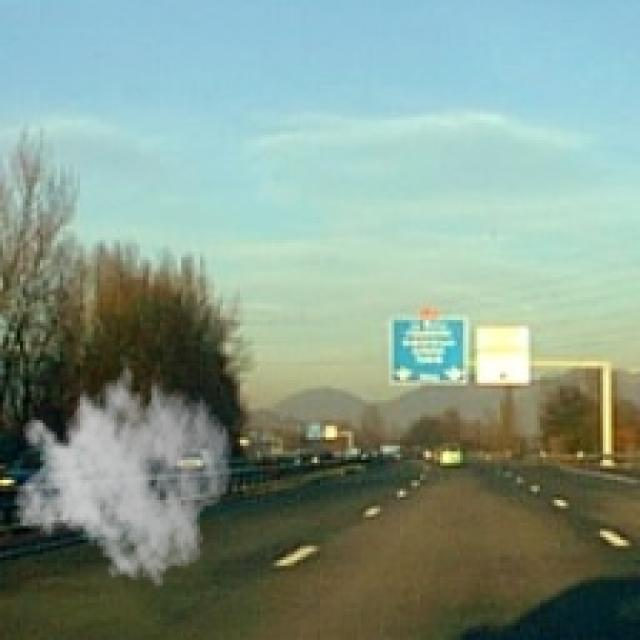Smoke: (14, 352, 234, 588)
